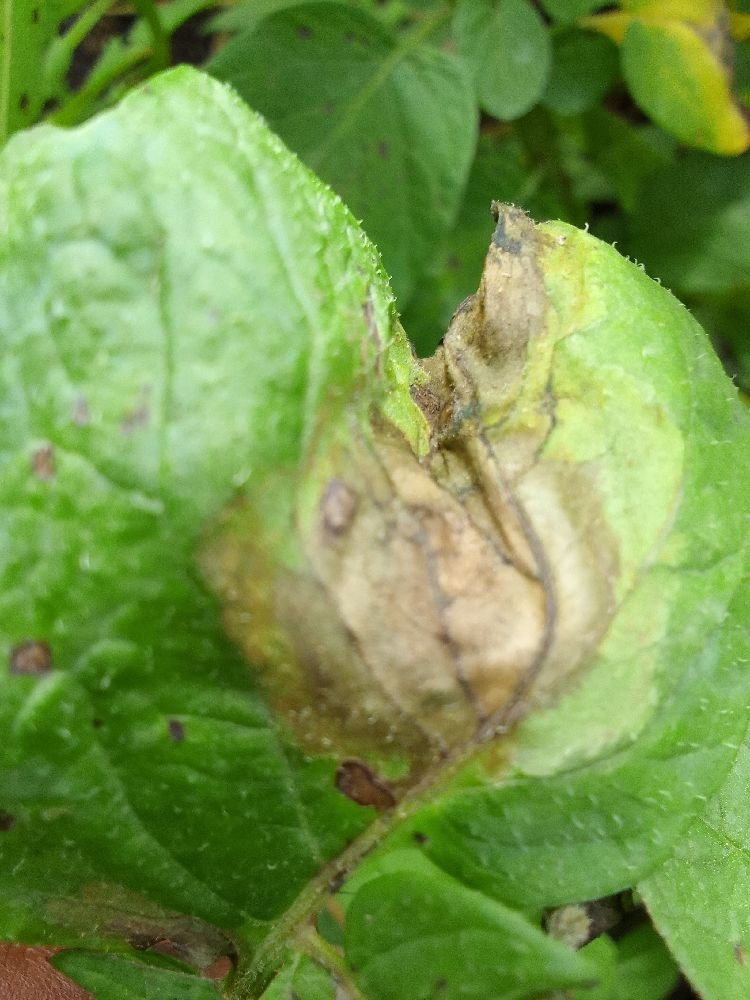late_blight: (200, 196, 636, 832), (672, 0, 750, 175), (0, 927, 108, 1000), (160, 0, 240, 77)
